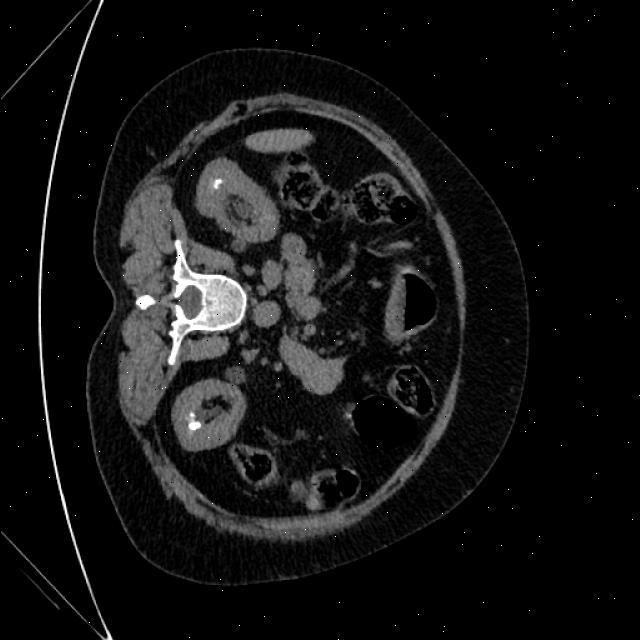kidneystone: (187, 421, 201, 431), (212, 178, 221, 189)
